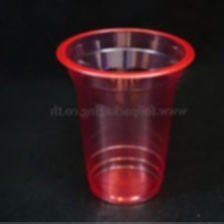glass: (47, 24, 200, 211)
